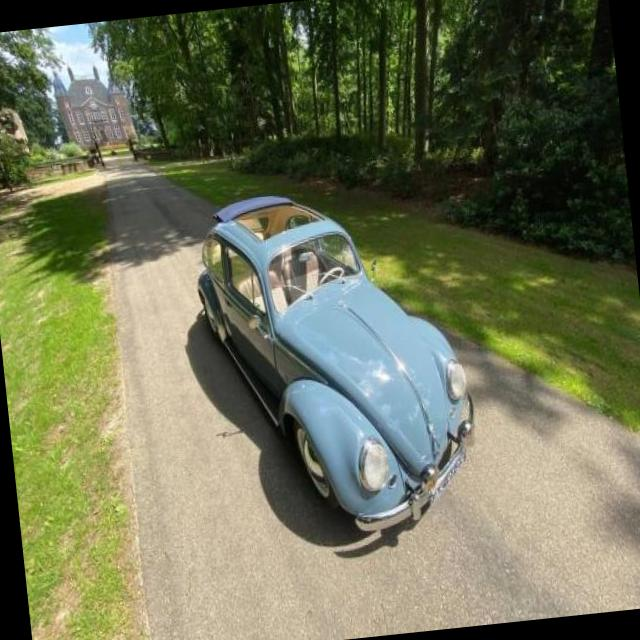car: (183, 178, 489, 540)
